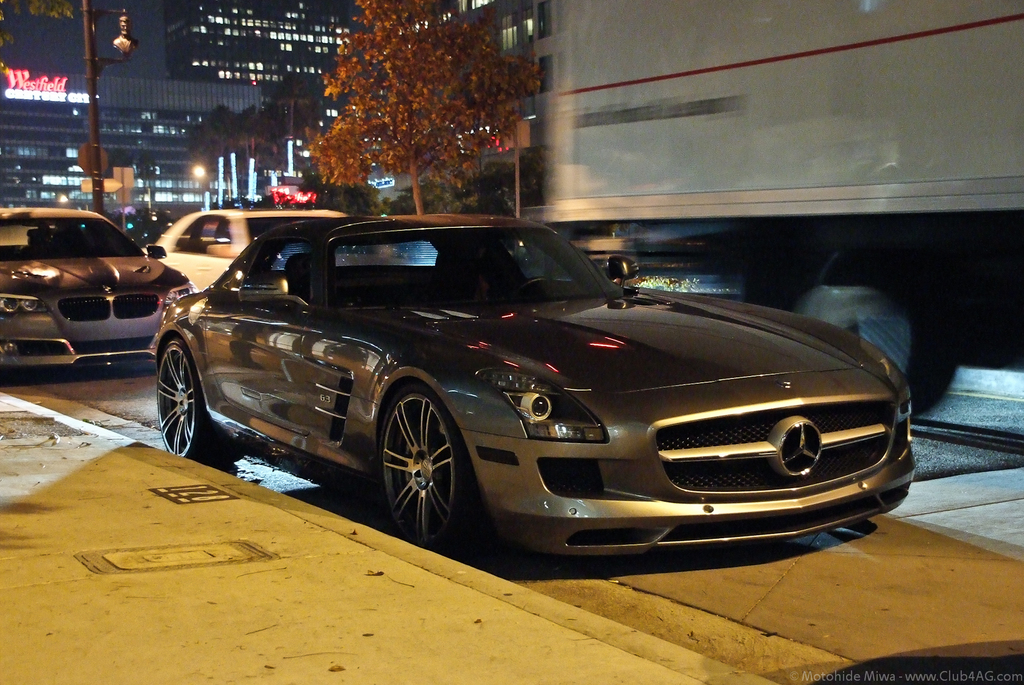car: (132, 197, 920, 589), (1, 169, 191, 390), (150, 181, 346, 297)
